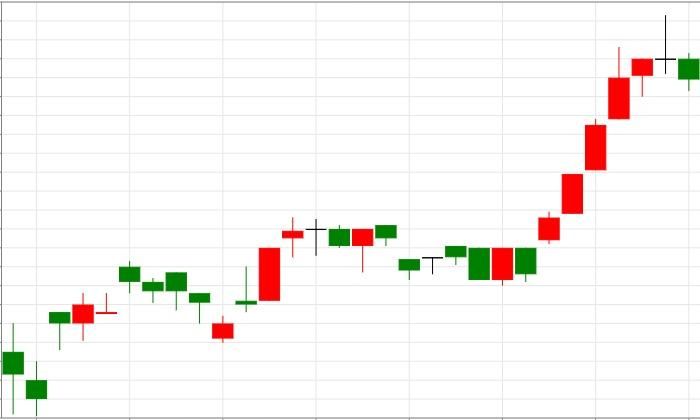evening_star_fall: (538, 14, 699, 245)
